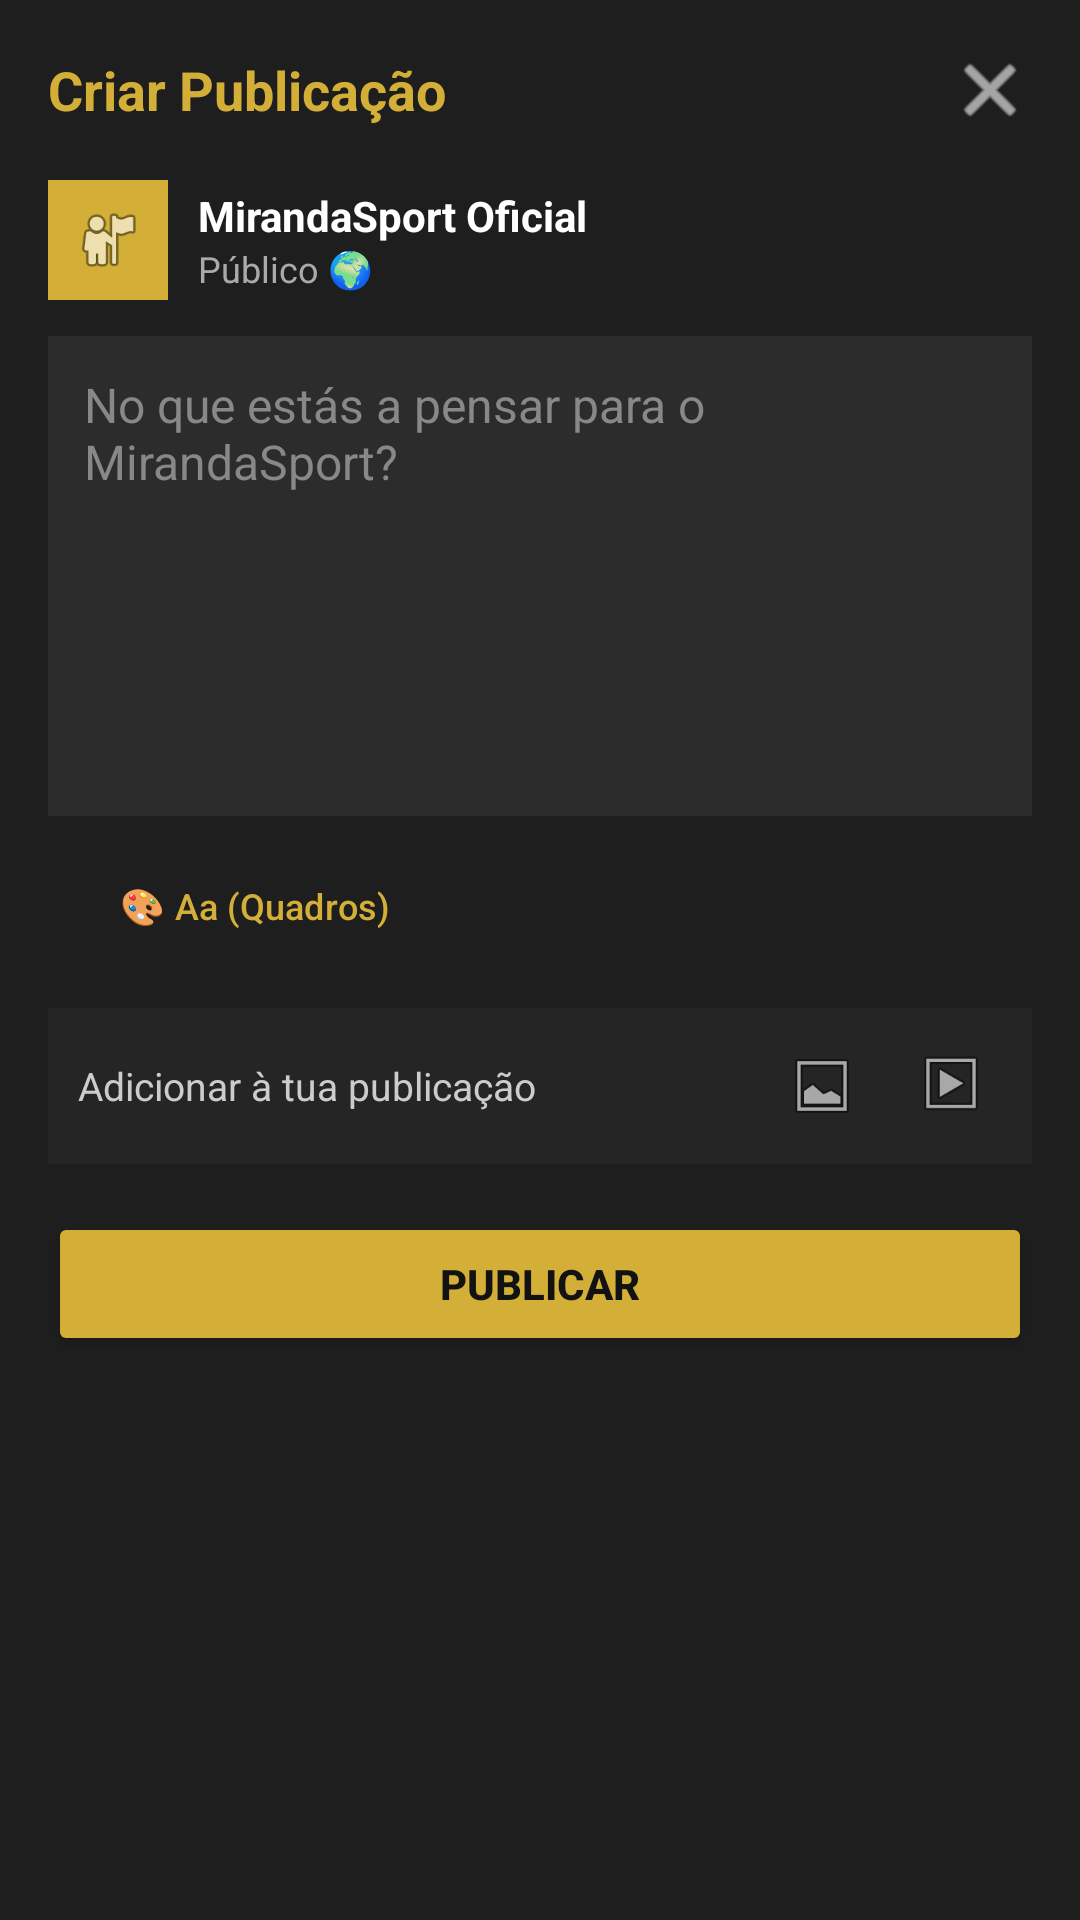

Named icons in this screenshot (1080 x 1920) and their bounding boxes, rect(x1, y1, x2, y2):
close clear cancel: rect(964, 64, 1016, 116)
gallery: rect(795, 1059, 849, 1113)
myplaces: rect(48, 180, 168, 300)
slideshow: rect(926, 1058, 976, 1108)
